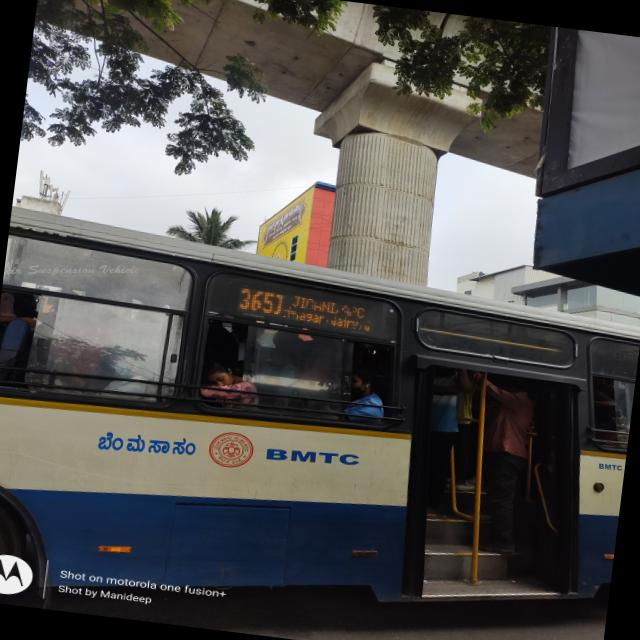bus: (0, 220, 640, 633)
display: (208, 266, 404, 350)
dnumber: (229, 268, 291, 329)
